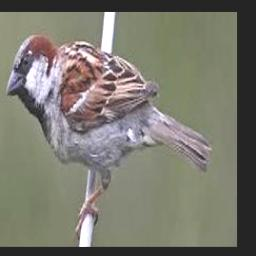Sparrow: (6, 33, 212, 236)
